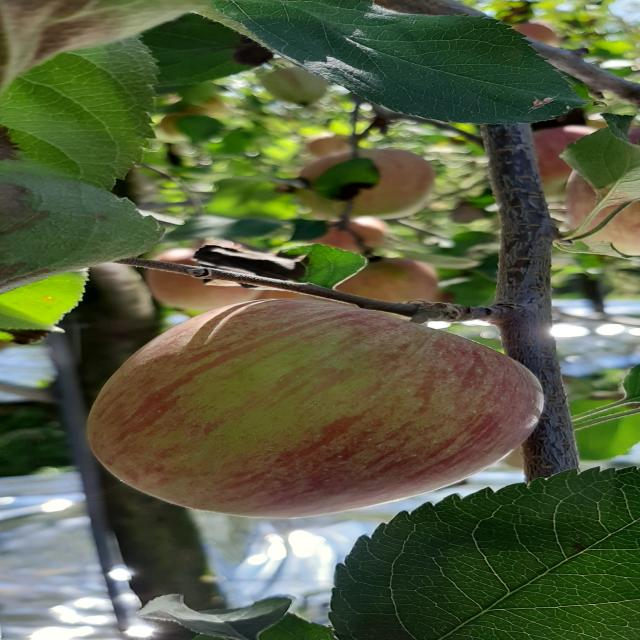fresh: (64, 287, 568, 528)
